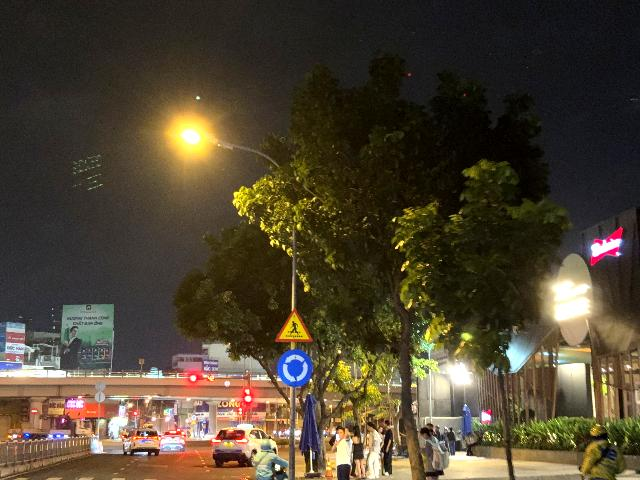duong-nguoi-di-bo-cat-ngang: (274, 306, 314, 343)
noi-giao-nhau-chay-theo-vong-xuyen: (278, 348, 313, 387)
